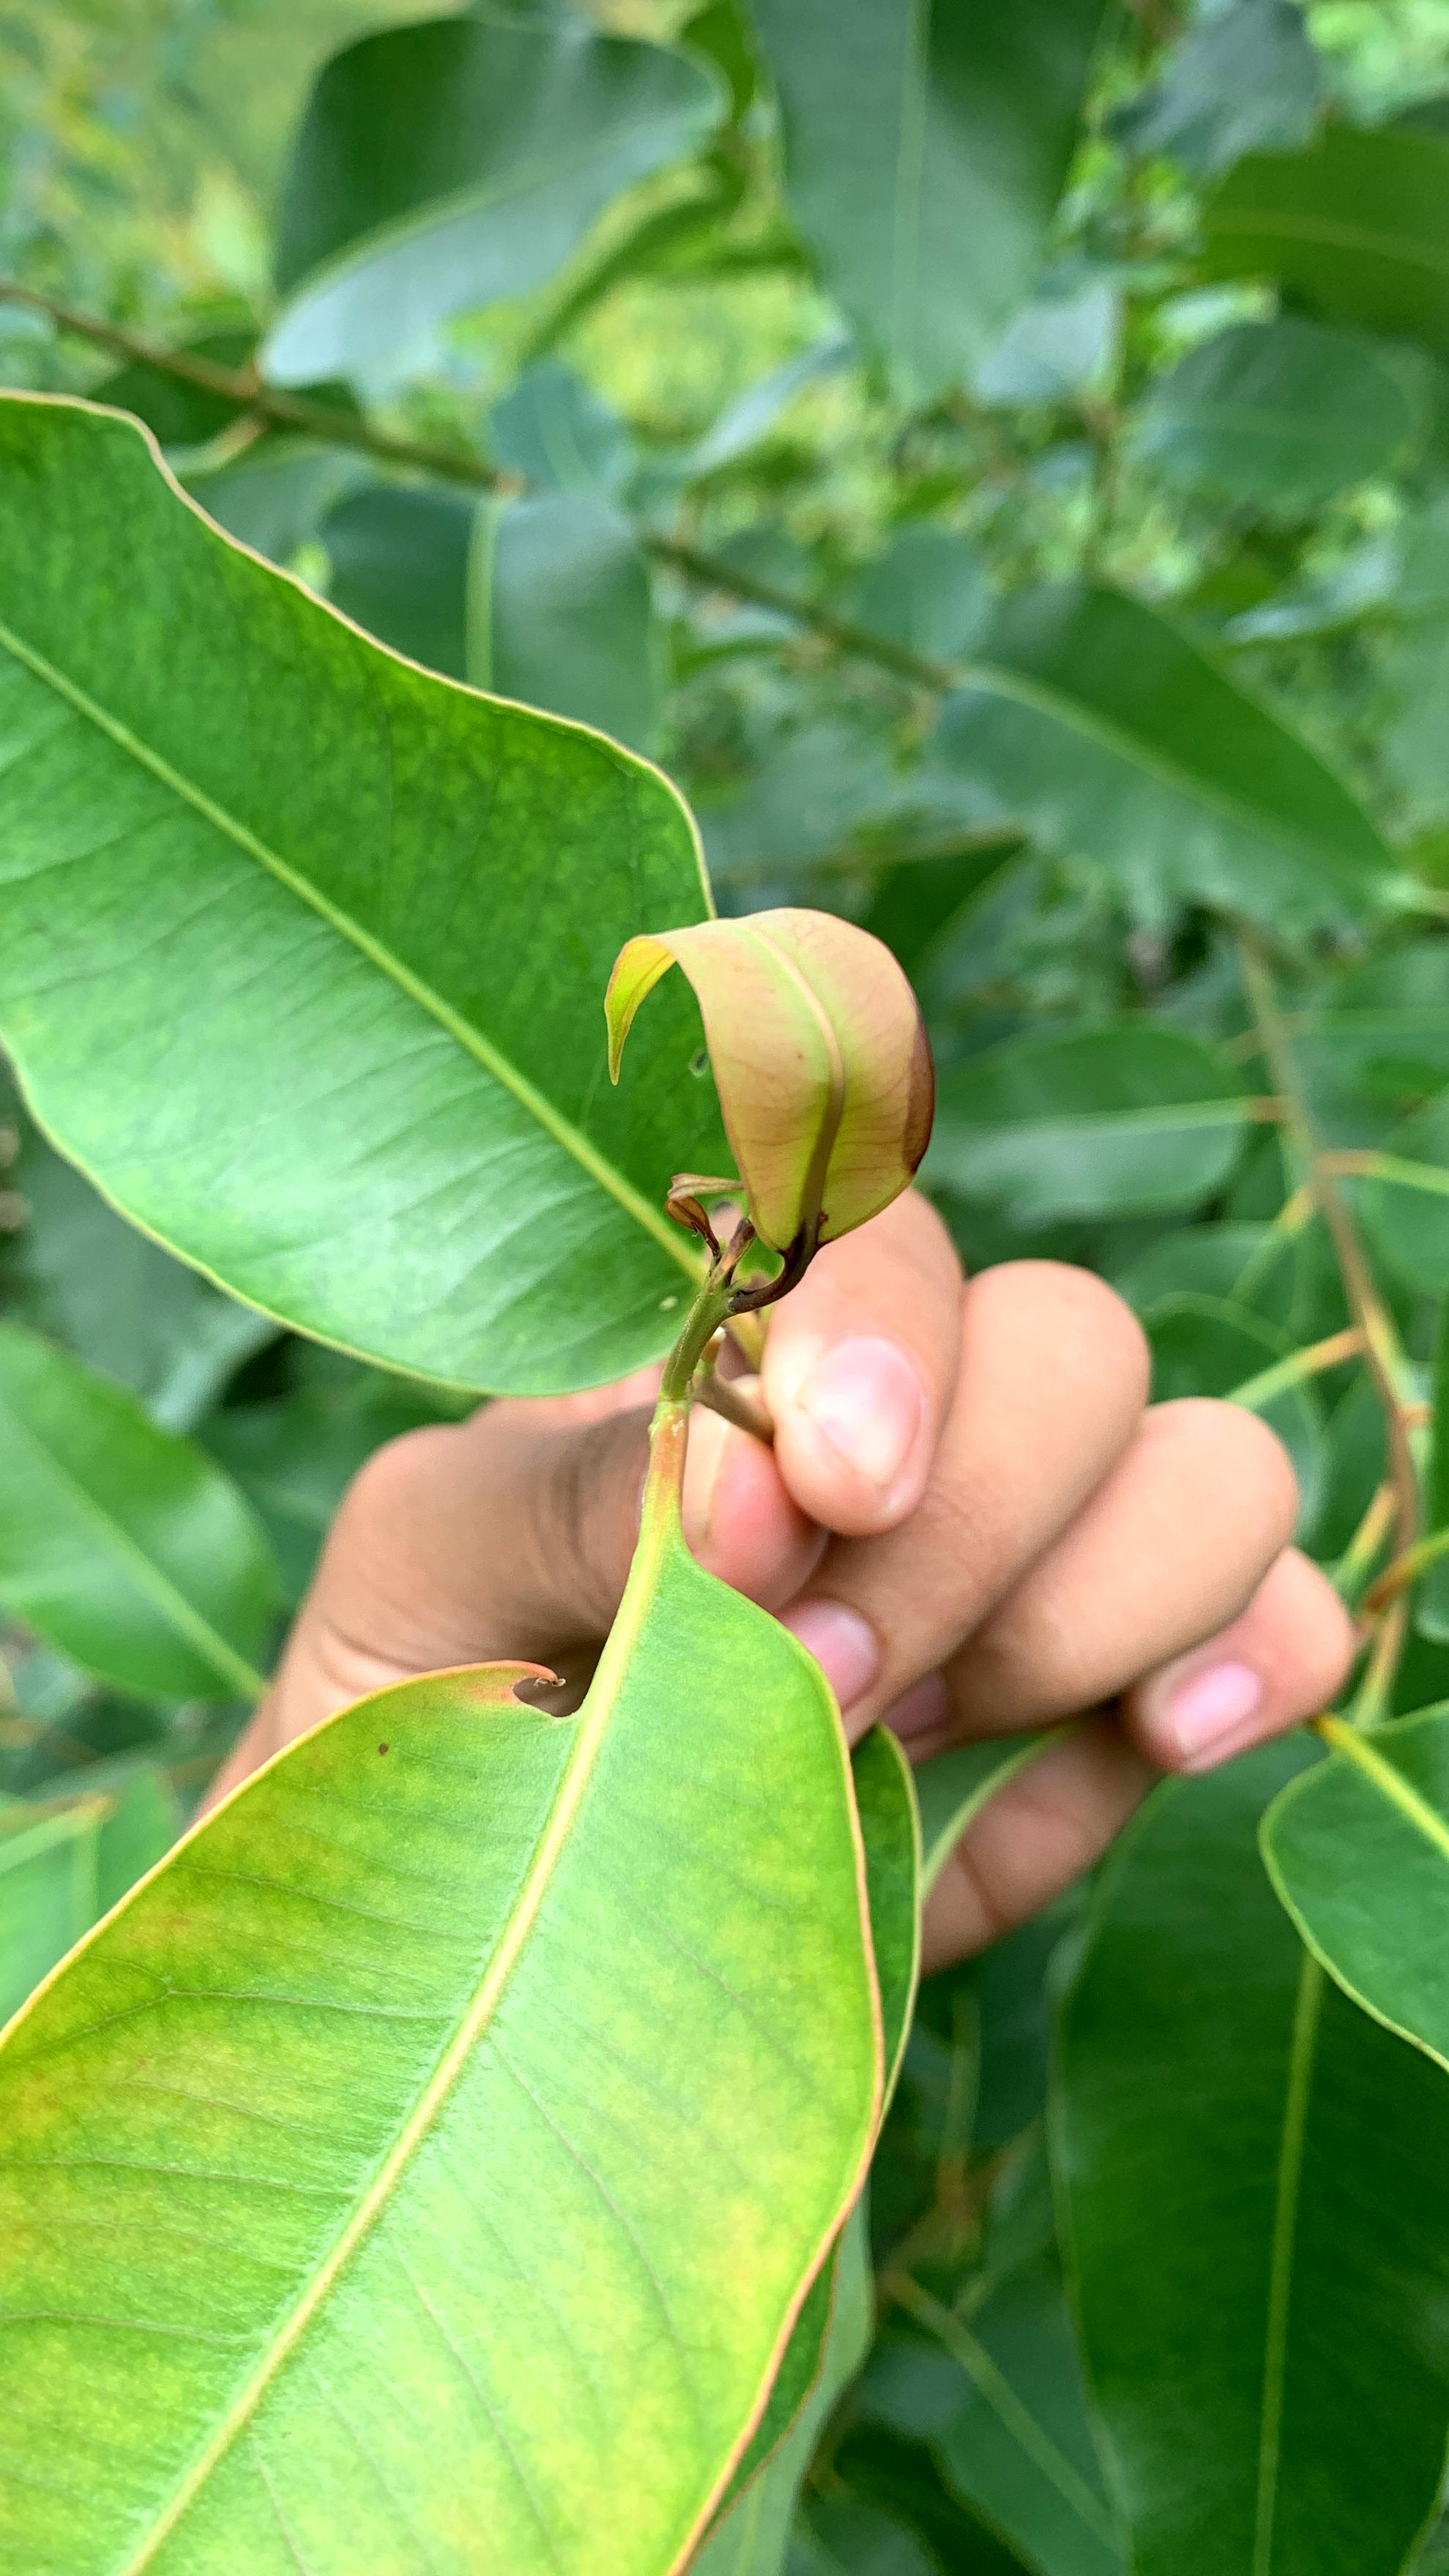Helopeltis-Withered Sprout: (589, 890, 943, 1261)
